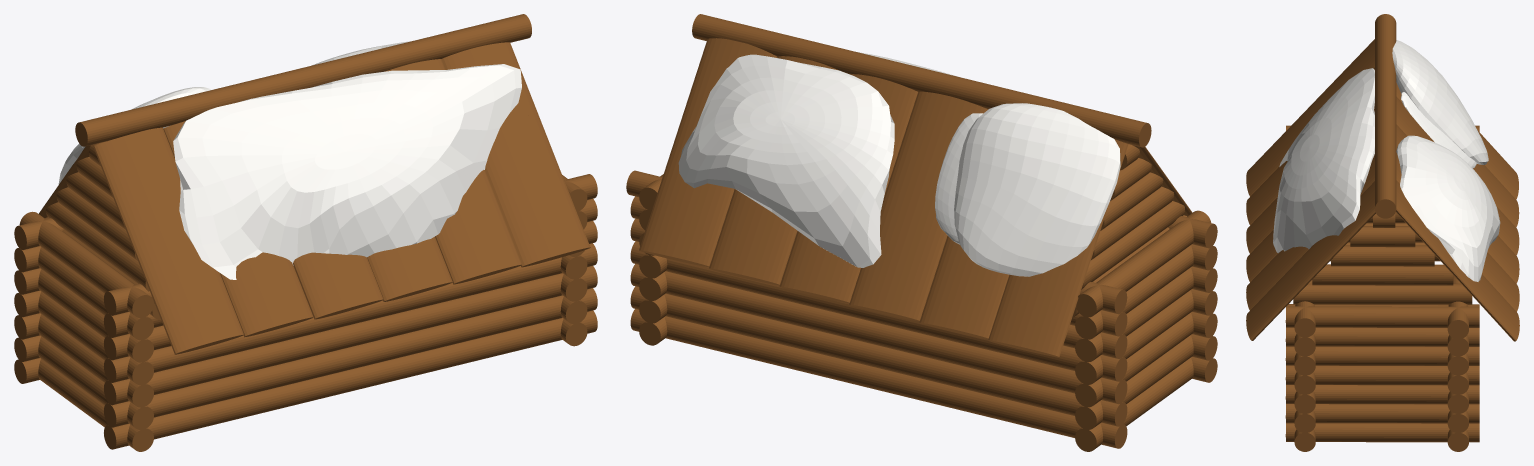
Rendered from Log_Cabin.fbx.
3 views of the same model, side by side, from view 1: azimuth 30°, elevation 25°; view 2: azimuth 150°, elevation 25°; view 3: azimuth 270°, elevation 25° (orthographic). The views are drawn at different scales.
Parts seen in each view (by area): view 1: Log Cabin; view 2: Log Cabin; view 3: Log Cabin.
Boxes of the visible parts, left/top/right/bottom form: Log Cabin: left=14, top=14, right=597, bottom=451; Log Cabin: left=626, top=14, right=1217, bottom=451; Log Cabin: left=1246, top=14, right=1519, bottom=451.
Size of the model in its own units: 2243 by 1264 by 1281.
